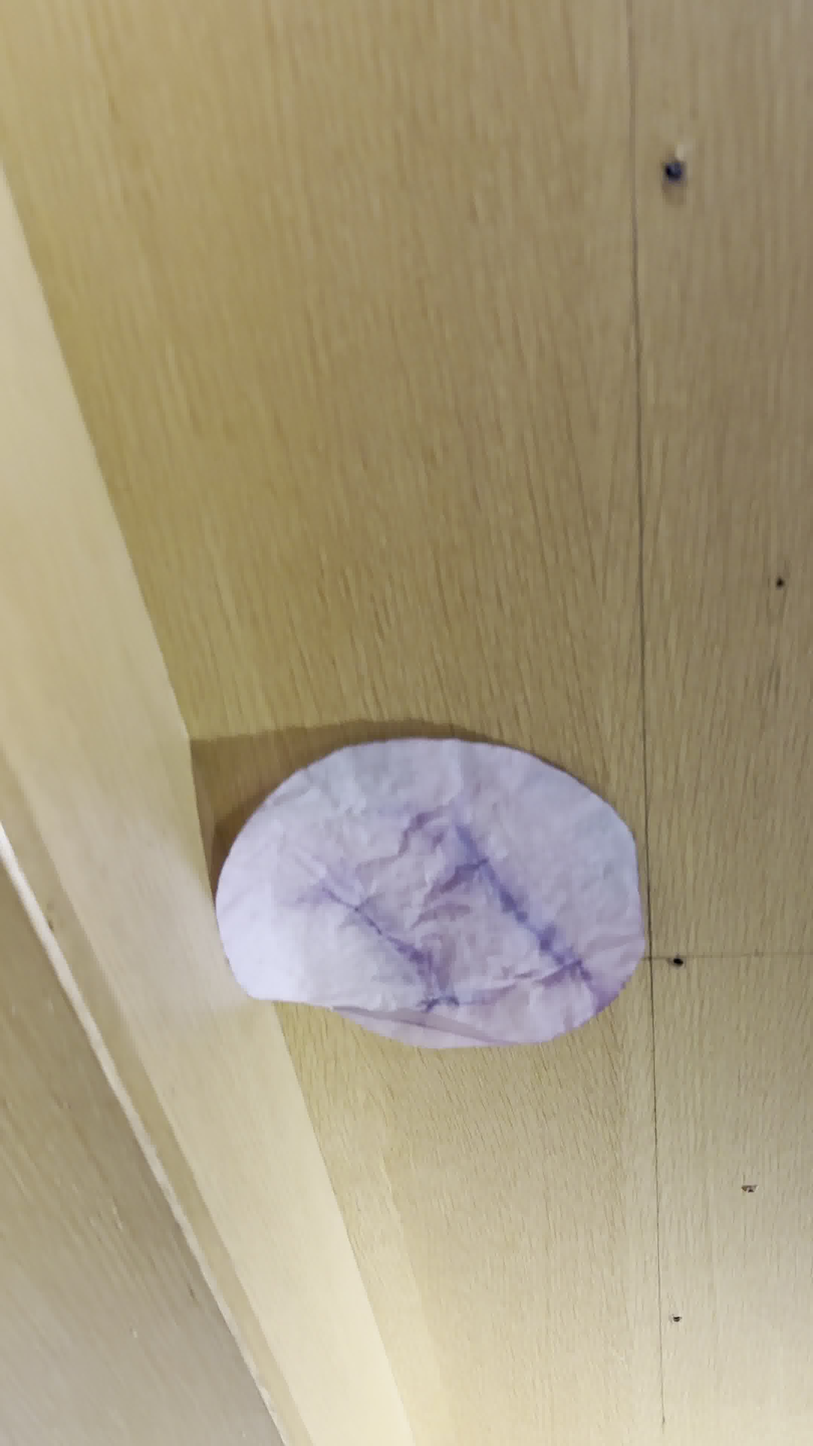Target: (218, 739, 645, 1049)
